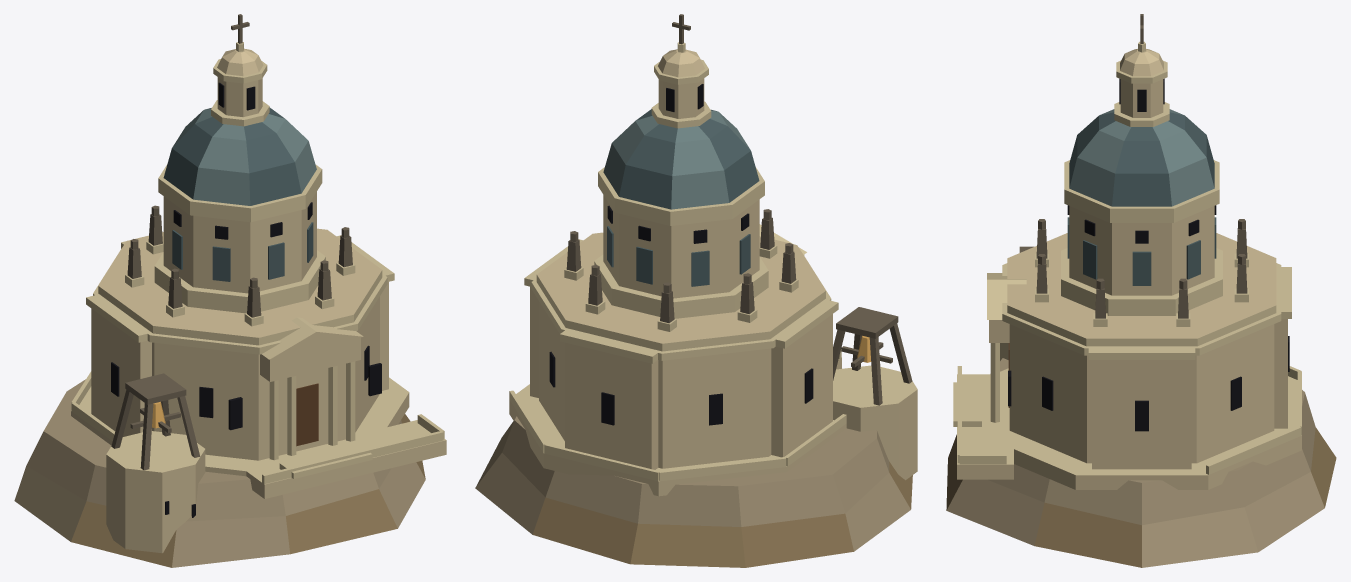
File: cristore.glb
The picture shows the model from 3 angles, left to right: view 1: azimuth 30°, elevation 25°; view 2: azimuth 150°, elevation 25°; view 3: azimuth 270°, elevation 25°; orthographic projection.
Parts seen in each view (by area): view 1: POI_cristore; view 2: POI_cristore; view 3: POI_cristore.
Boxes of the visible parts, left/top/right/bottom form: POI_cristore: left=14, top=14, right=446, bottom=567; POI_cristore: left=475, top=14, right=917, bottom=567; POI_cristore: left=946, top=14, right=1336, bottom=567.
Size of the model in its own units: 61.71 by 72.2 by 54.82.
